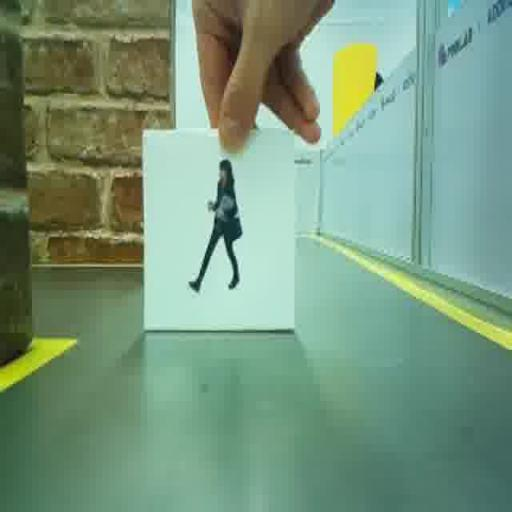human: (189, 159, 242, 291)
